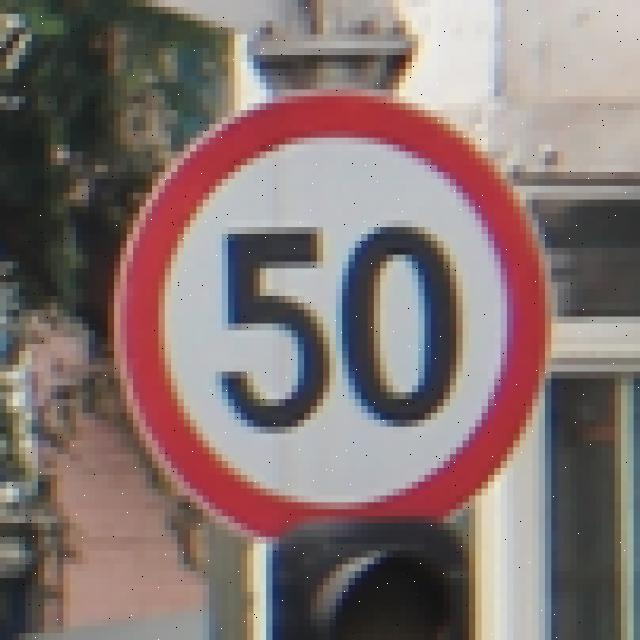speed limit 50: (109, 85, 551, 543)
